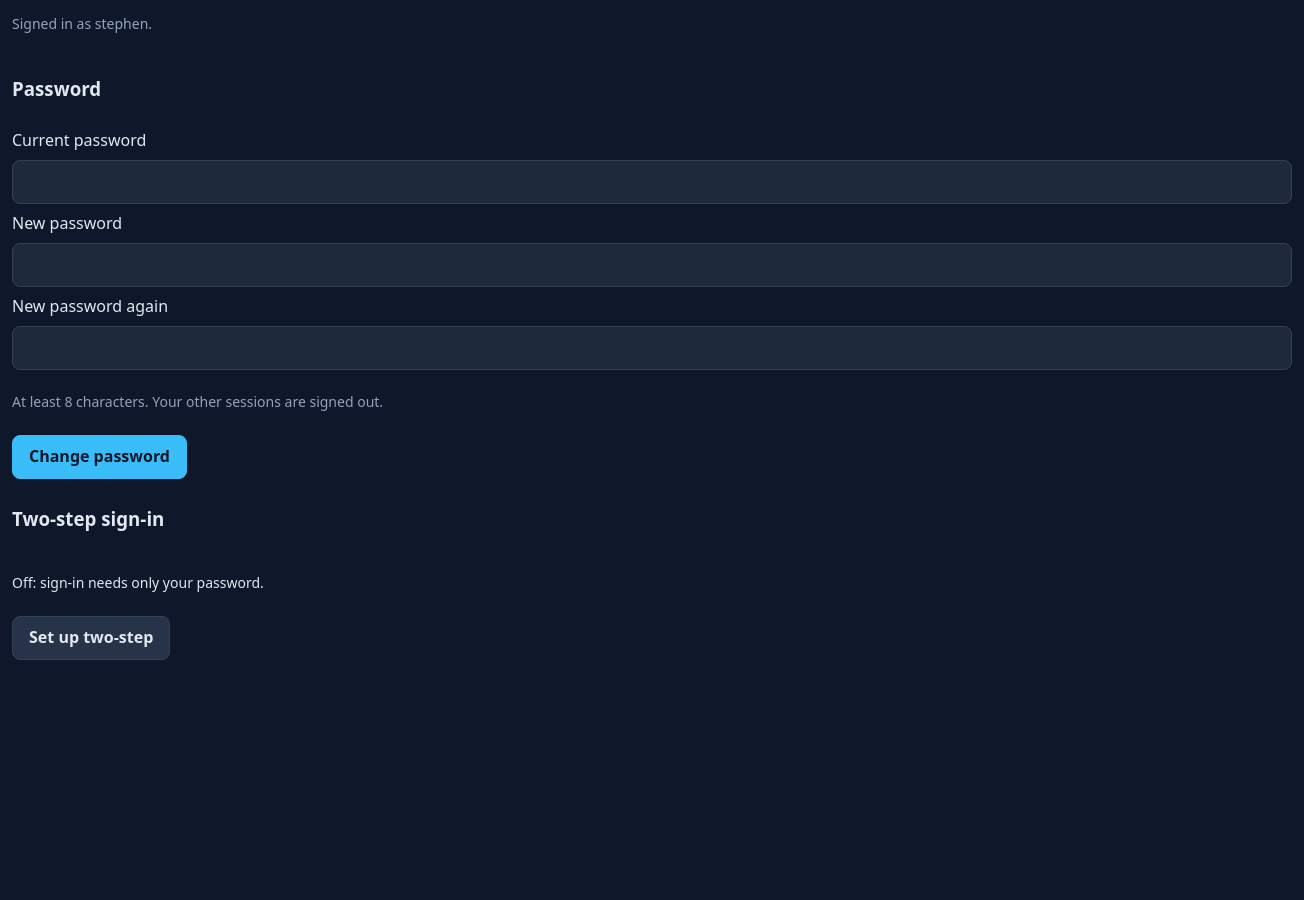
Test: Security: password change (acceptance test 7) › a 422 shows the server's message (for example a new password the server refuses)
Type "old-password" into the password field labelled "Current password" at (652, 182), box [12, 160, 1292, 204]
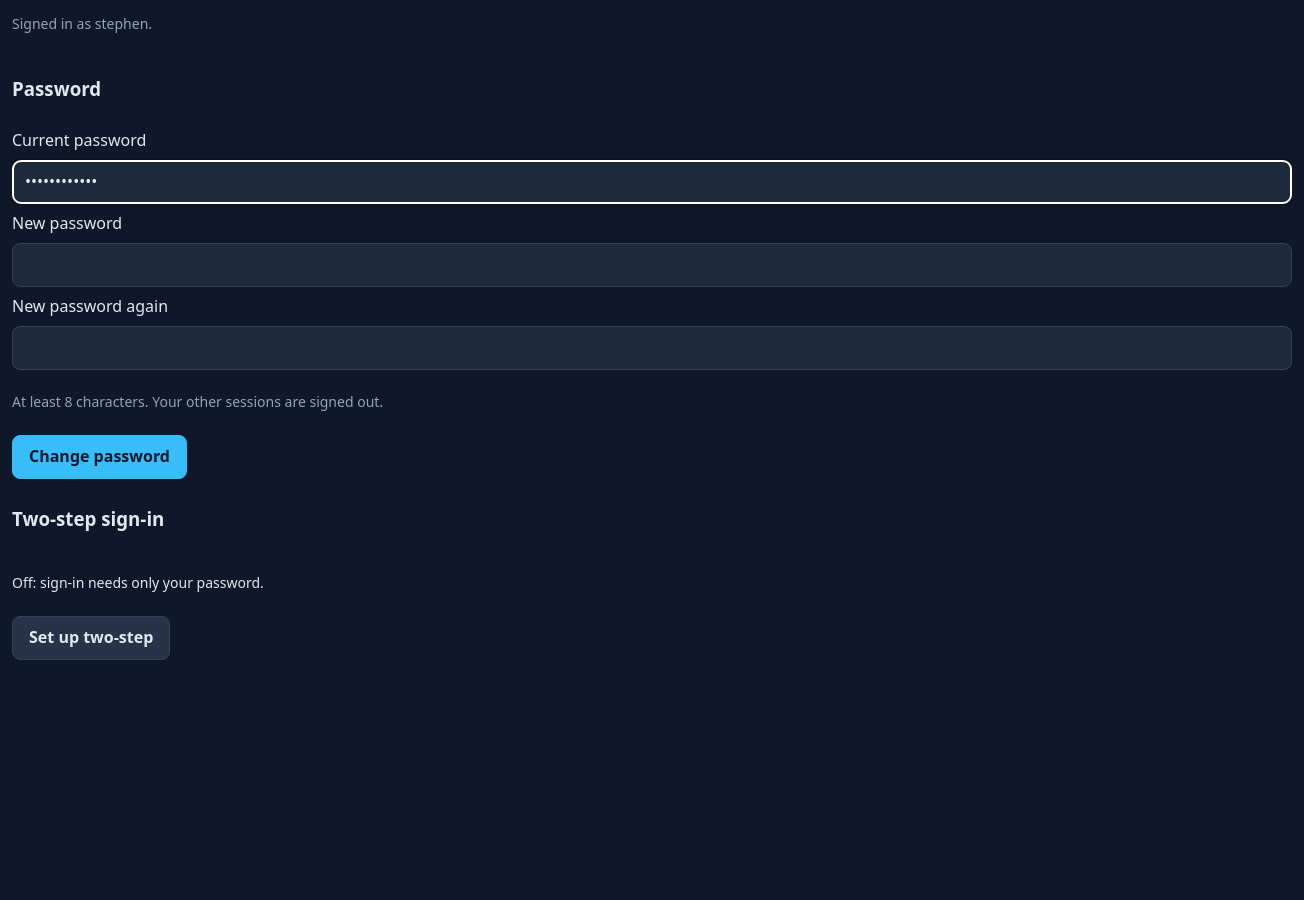
Type "password" into the password field labelled "New password" at (652, 265), box [12, 243, 1292, 287]
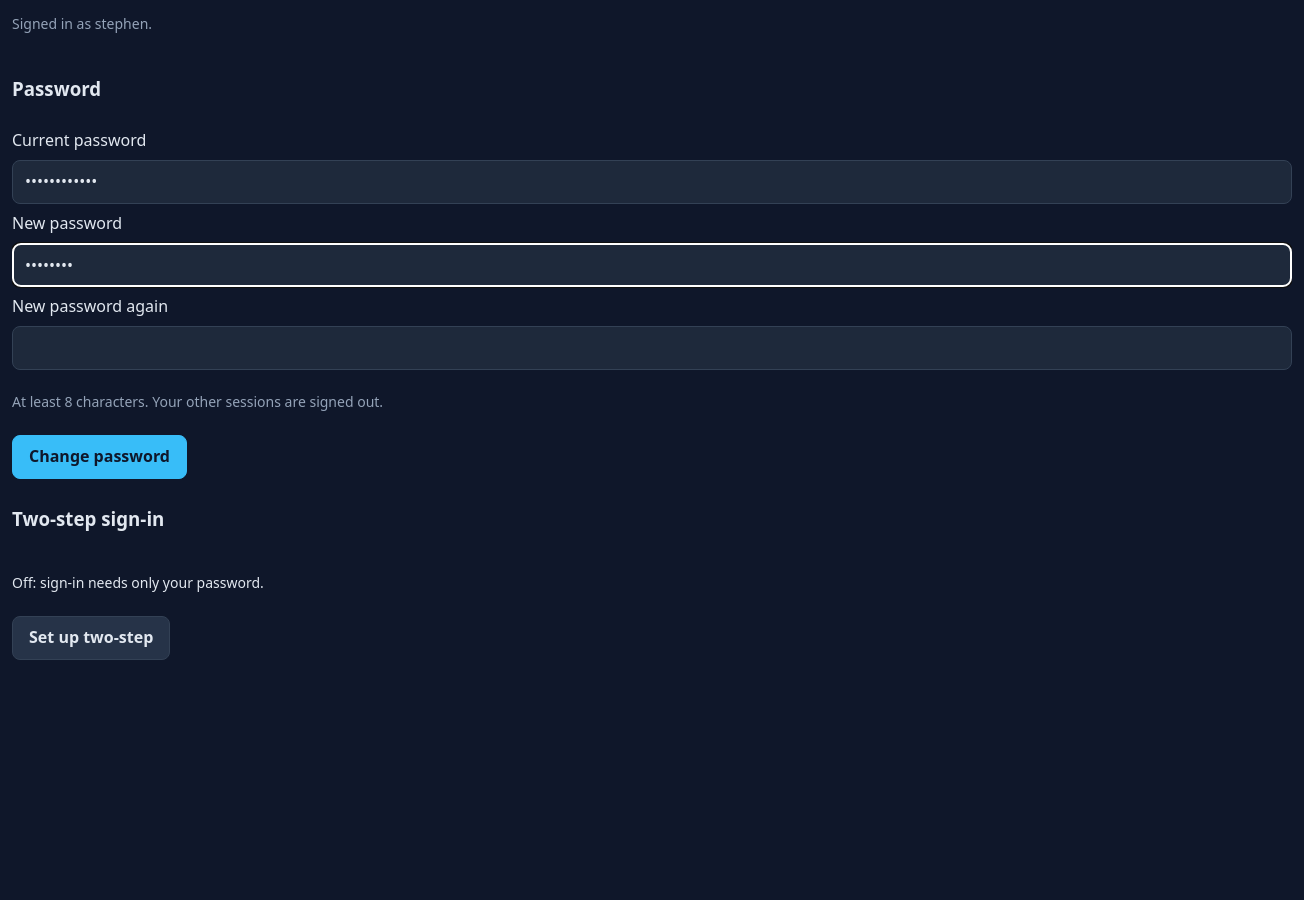
Type "password" into the password field labelled "New password again" at (652, 348), box [12, 326, 1292, 370]
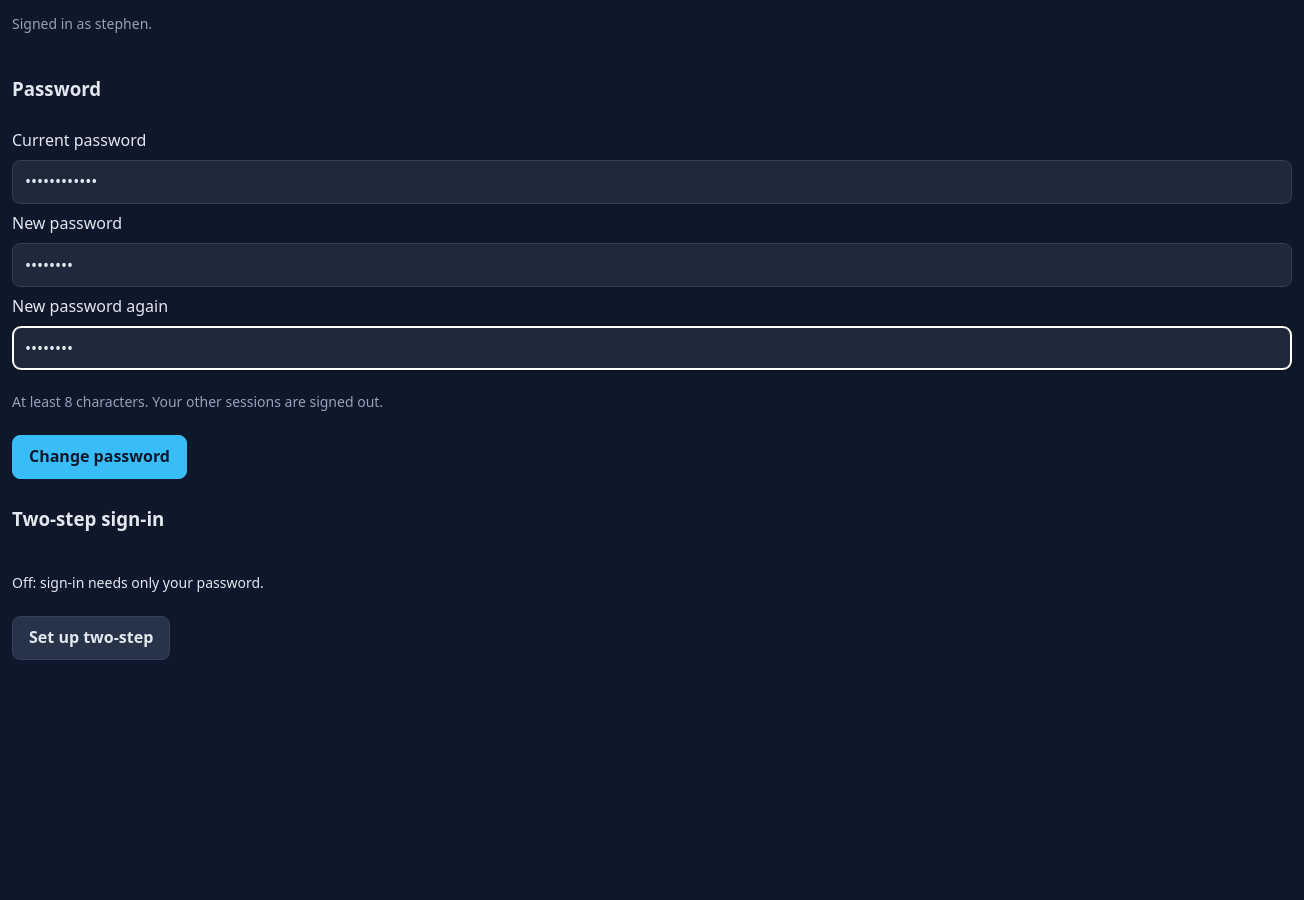
Click the button "Change password" at (100, 457), box [12, 435, 187, 479]
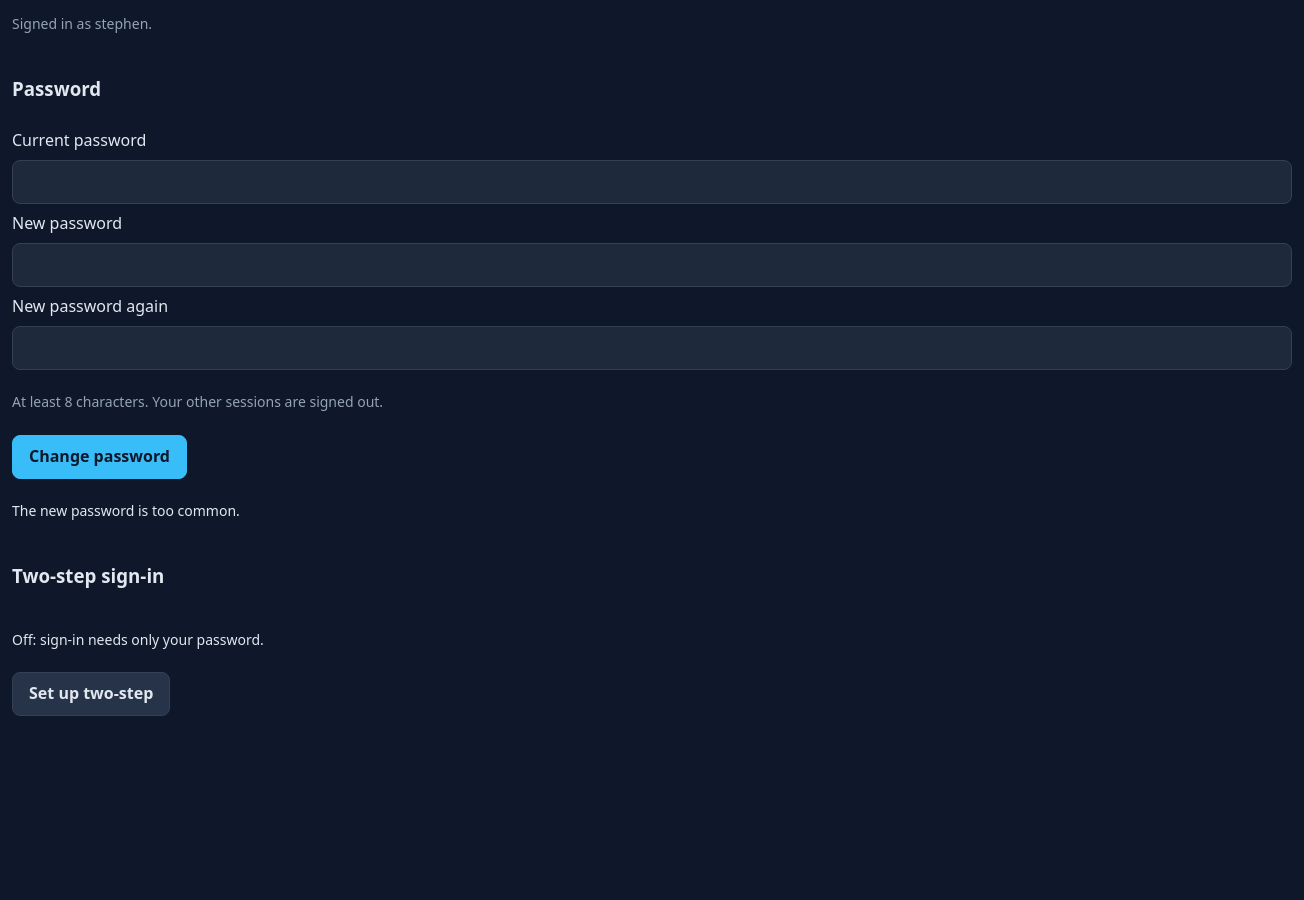
expect the message reads "The new password is too common.": met, box [12, 501, 240, 520]
expect the password field labelled "Current password" is empty: met, box [12, 160, 1292, 204]
